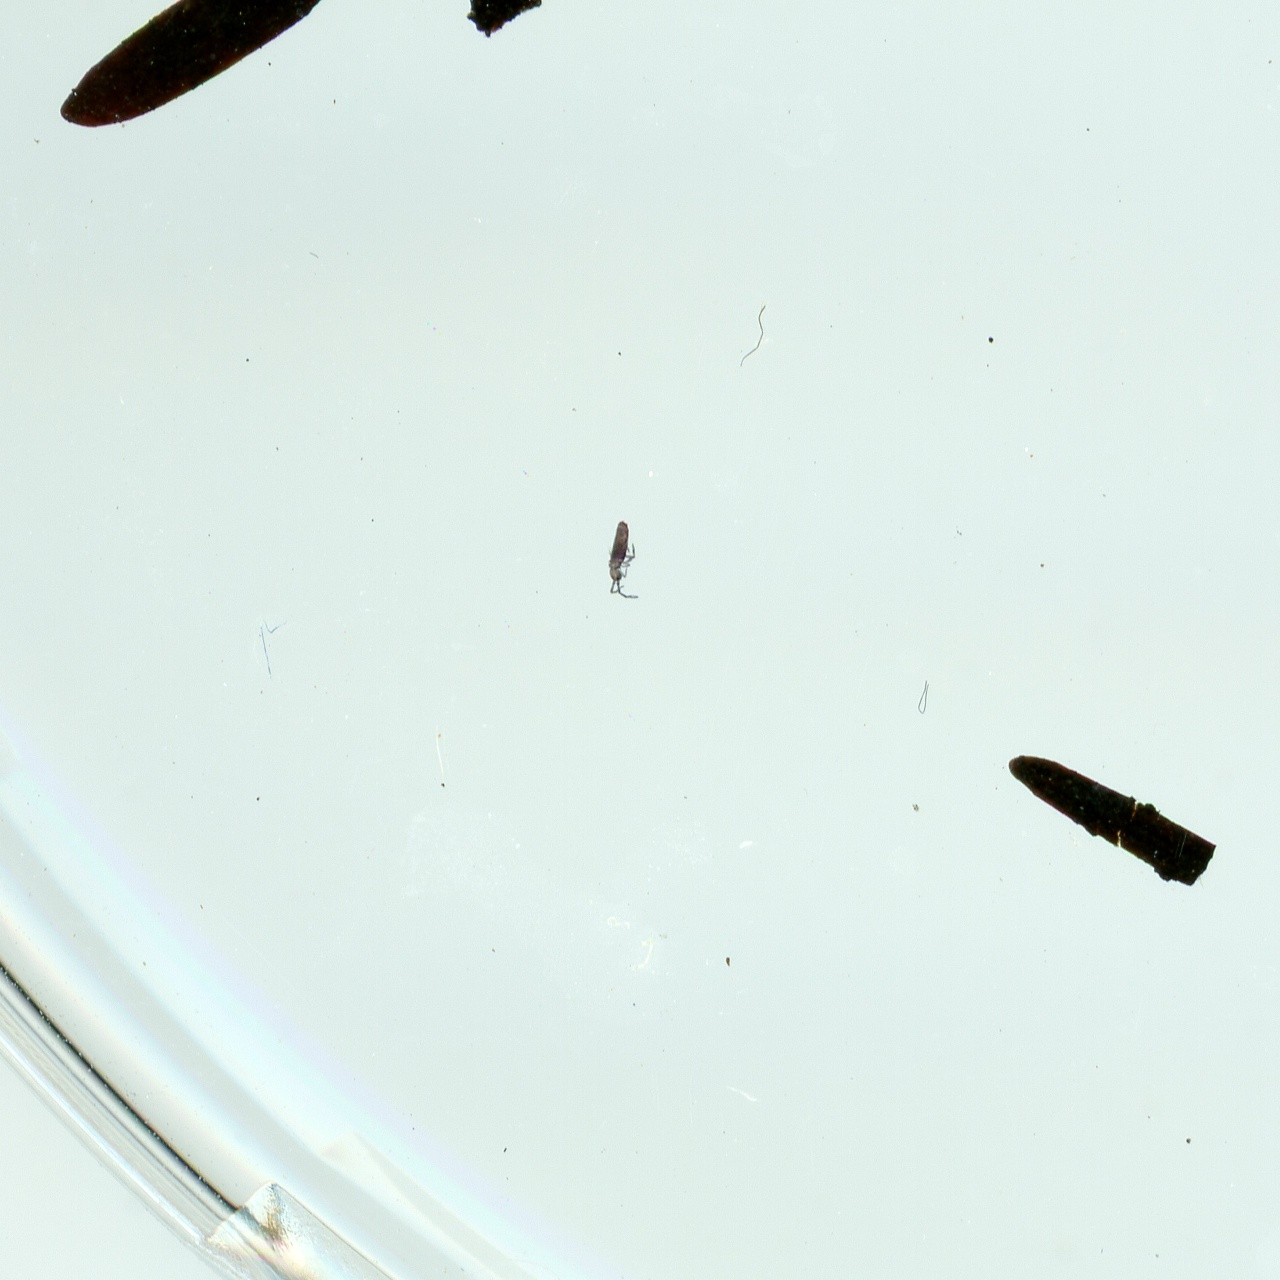arthropod: (593, 501, 653, 613)
